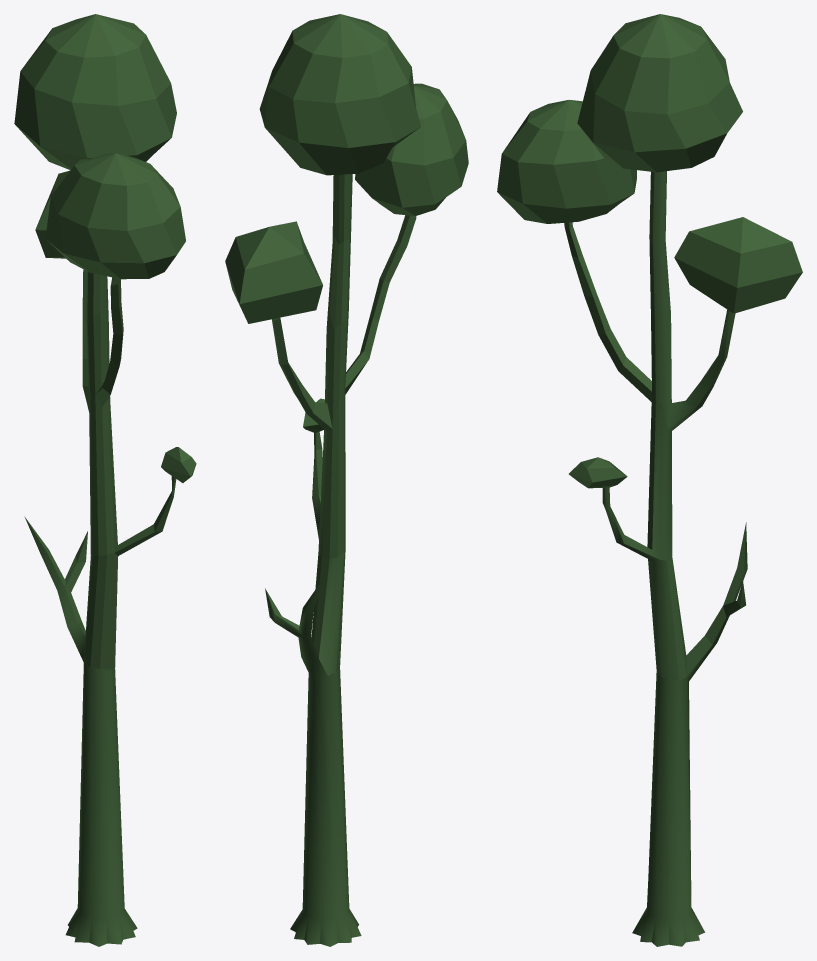
File: birchtree1.fbx
The picture shows the model from 3 angles, left to right: view 1: azimuth 30°, elevation 25°; view 2: azimuth 150°, elevation 25°; view 3: azimuth 270°, elevation 25°; orthographic projection.
Parts seen in each view (by area): view 1: pCylinder3.003; view 2: pCylinder3.003; view 3: pCylinder3.003.
Boxes of the visible parts, x1,y1,x2,y2 form: pCylinder3.003: (14, 14, 196, 946); pCylinder3.003: (225, 14, 468, 946); pCylinder3.003: (497, 14, 802, 946).
Bounding box in the file's own units: 171 × 974 × 296.
